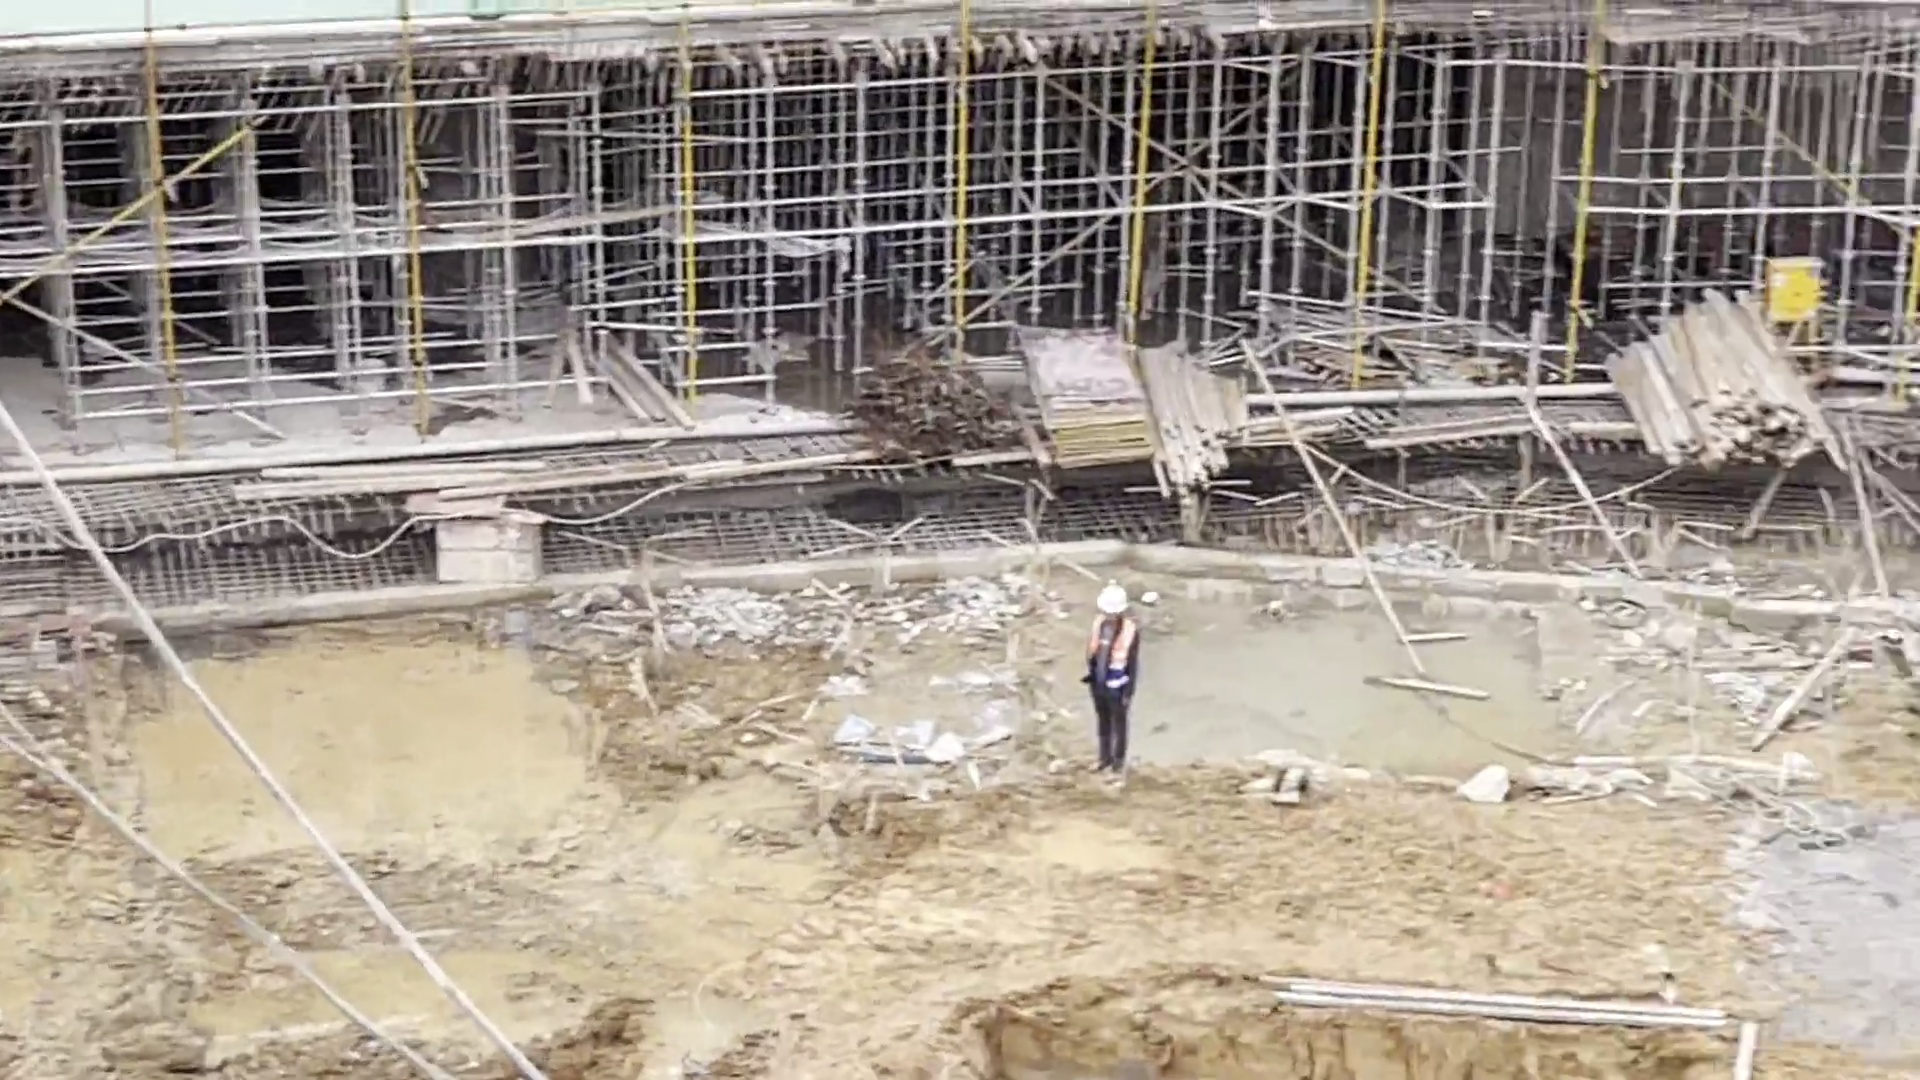board: (1010, 332, 1152, 456)
ebox: (1768, 257, 1818, 334)
helmet: (1095, 587, 1126, 612)
person: (1086, 581, 1138, 780)
vest: (1092, 618, 1129, 685)
wood: (1605, 287, 1821, 474), (1147, 341, 1228, 486)
